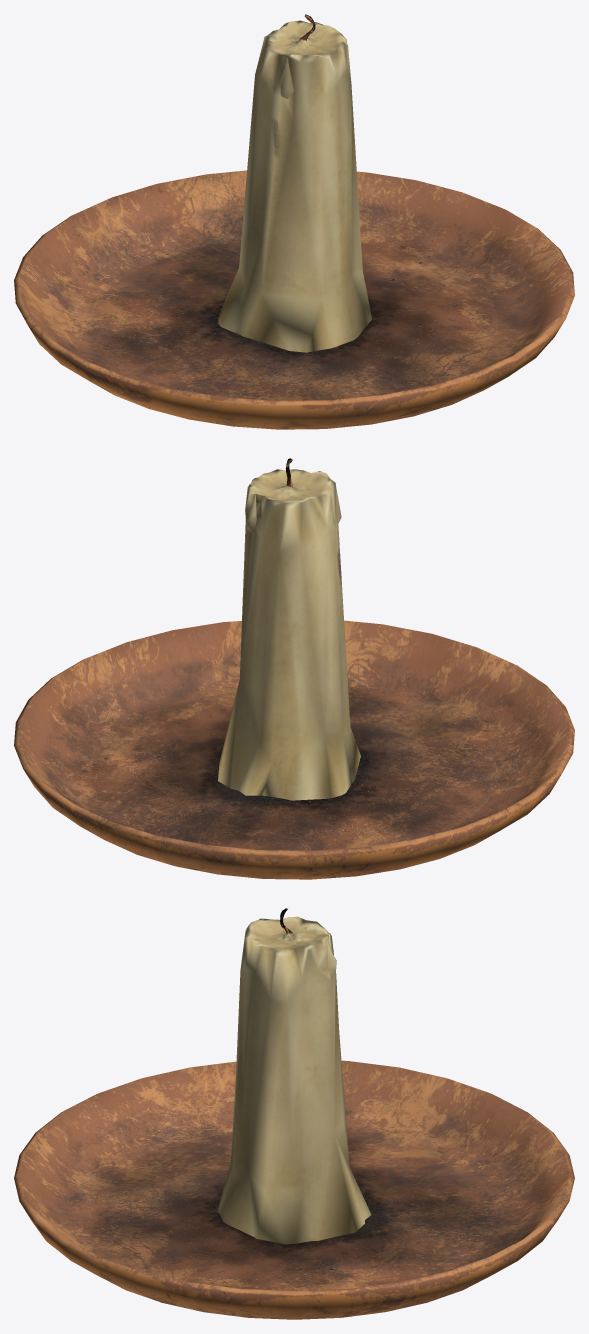
3 renders of one model, top to bottom at view 1: azimuth 30°, elevation 25°; view 2: azimuth 150°, elevation 25°; view 3: azimuth 270°, elevation 25°, orthographic.
Visible parts, largest first — view 1: candlestick, candle; view 2: candlestick, candle; view 3: candlestick, candle.
Part boxes in pixels (x1,y1,x2,y2): candlestick: (14, 170, 574, 429); candle: (217, 14, 371, 352); candlestick: (14, 620, 574, 879); candle: (218, 458, 360, 800); candlestick: (14, 1060, 574, 1319); candle: (218, 908, 371, 1244).
Size of the model in its own units: 91.52 by 61.58 by 91.52.
2 materials, 2 textured.
